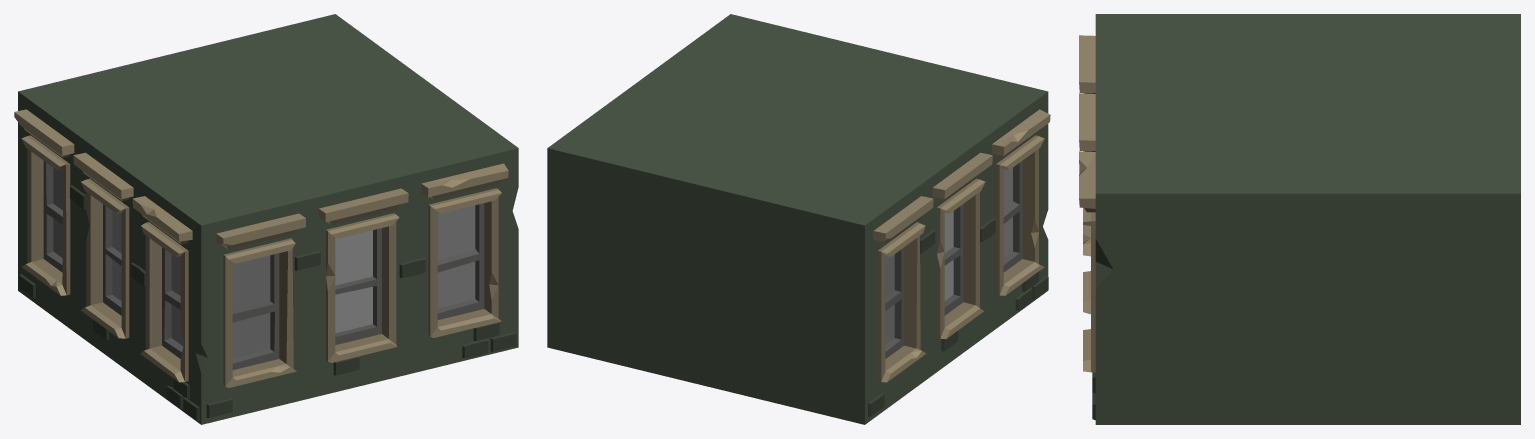
The model's file is SM_Bld_Apartment_Corner_01.fbx.
3 renders of one model, left to right at view 1: azimuth 30°, elevation 25°; view 2: azimuth 150°, elevation 25°; view 3: azimuth 270°, elevation 25°, orthographic. The views are drawn at different scales.
Parts seen in each view (by area): view 1: Default, window3, window2, window1, window4, window6, window5; view 2: Default, window5, window6, window4; view 3: Default.
Boxes of the visible parts, x1,y1,x2,y2 form: Default: [14, 14, 518, 424]; window3: [232, 255, 270, 358]; window2: [335, 230, 372, 333]; window1: [437, 205, 475, 308]; window4: [171, 254, 183, 346]; window6: [53, 168, 63, 257]; window5: [112, 211, 121, 300]; Default: [547, 14, 1050, 424]; window5: [944, 211, 953, 300]; window6: [885, 254, 894, 344]; window4: [1003, 168, 1012, 257]; Default: [1079, 14, 1520, 424].
Size of the model in its own units: 5.2 by 3 by 5.2.
Materials: 2 (1 with a texture image).
